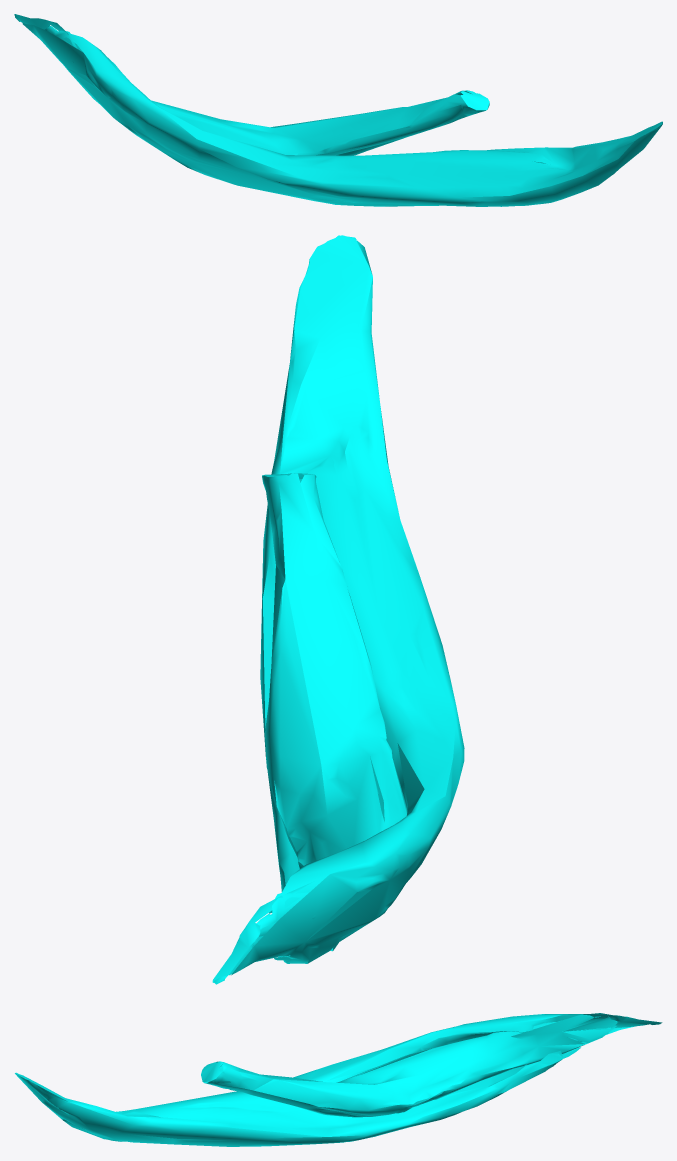
The model's file is PRONATOR_TERES.obj.
3 renders of one model, top to bottom at view 1: azimuth 30°, elevation 25°; view 2: azimuth 150°, elevation 25°; view 3: azimuth 270°, elevation 25°, orthographic. The views are drawn at different scales.
Parts seen in each view (by area): view 1: arm_FJ1474_grp1_arm_MAIN_arm_MUSCLE_arm_Pronator_Teres_arm_polyS, arm_FJ1516_grp1_arm_MAIN_arm_MUSCLE_arm_Pronator_Teres_arm_polyS; view 2: arm_FJ1474_grp1_arm_MAIN_arm_MUSCLE_arm_Pronator_Teres_arm_polyS, arm_FJ1516_grp1_arm_MAIN_arm_MUSCLE_arm_Pronator_Teres_arm_polyS; view 3: arm_FJ1474_grp1_arm_MAIN_arm_MUSCLE_arm_Pronator_Teres_arm_polyS, arm_FJ1516_grp1_arm_MAIN_arm_MUSCLE_arm_Pronator_Teres_arm_polyS.
Boxes of the visible parts, <box> form: arm_FJ1474_grp1_arm_MAIN_arm_MUSCLE_arm_Pronator_Teres_arm_polyS: <box>14,14,662,206</box>; arm_FJ1516_grp1_arm_MAIN_arm_MUSCLE_arm_Pronator_Teres_arm_polyS: <box>44,25,489,155</box>; arm_FJ1474_grp1_arm_MAIN_arm_MUSCLE_arm_Pronator_Teres_arm_polyS: <box>212,235,464,984</box>; arm_FJ1516_grp1_arm_MAIN_arm_MUSCLE_arm_Pronator_Teres_arm_polyS: <box>252,473,407,947</box>; arm_FJ1474_grp1_arm_MAIN_arm_MUSCLE_arm_Pronator_Teres_arm_polyS: <box>15,1013,662,1146</box>; arm_FJ1516_grp1_arm_MAIN_arm_MUSCLE_arm_Pronator_Teres_arm_polyS: <box>201,1014,617,1117</box>.
Size of the model in its own units: 69.9 by 34.86 by 146.
